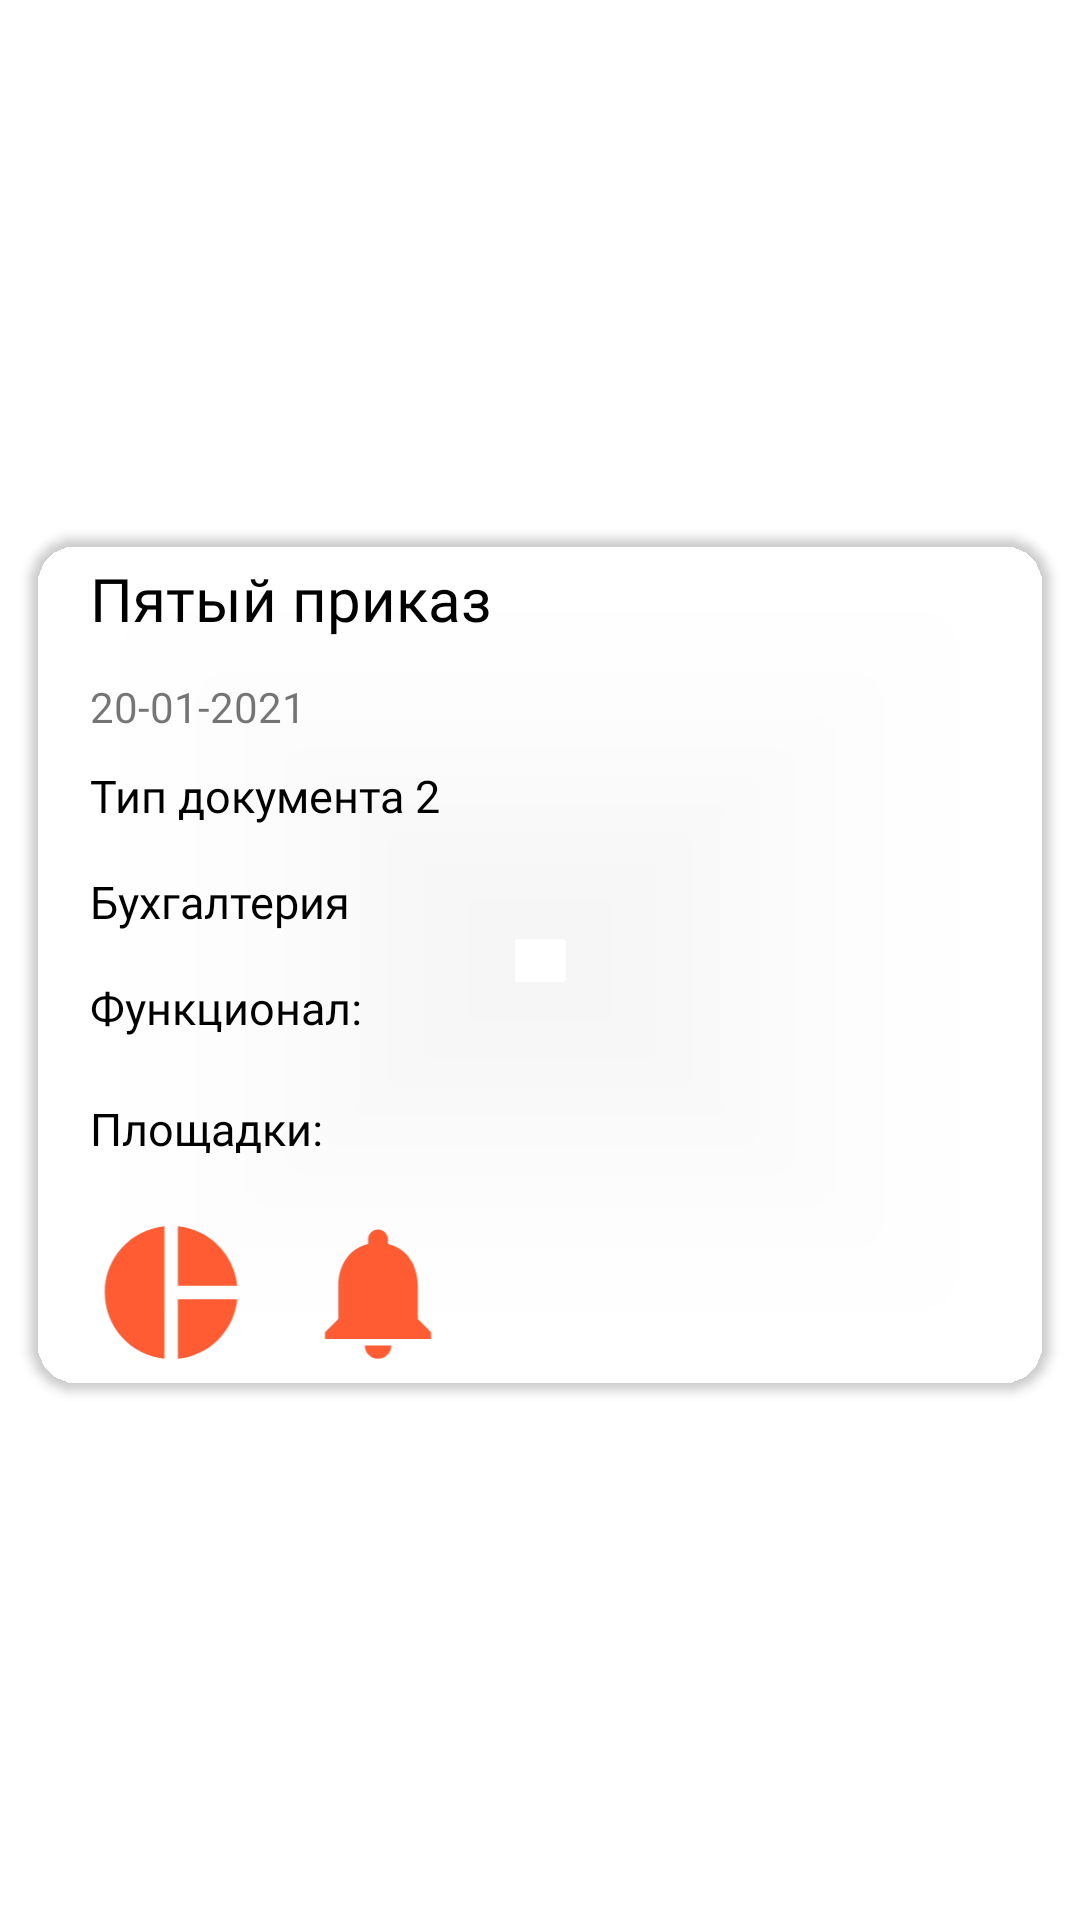

Point at icon controls on the screen. Image size 1080x1920, points as point (x, y).
notification: point (378, 1294)
piechart: point (171, 1292)
